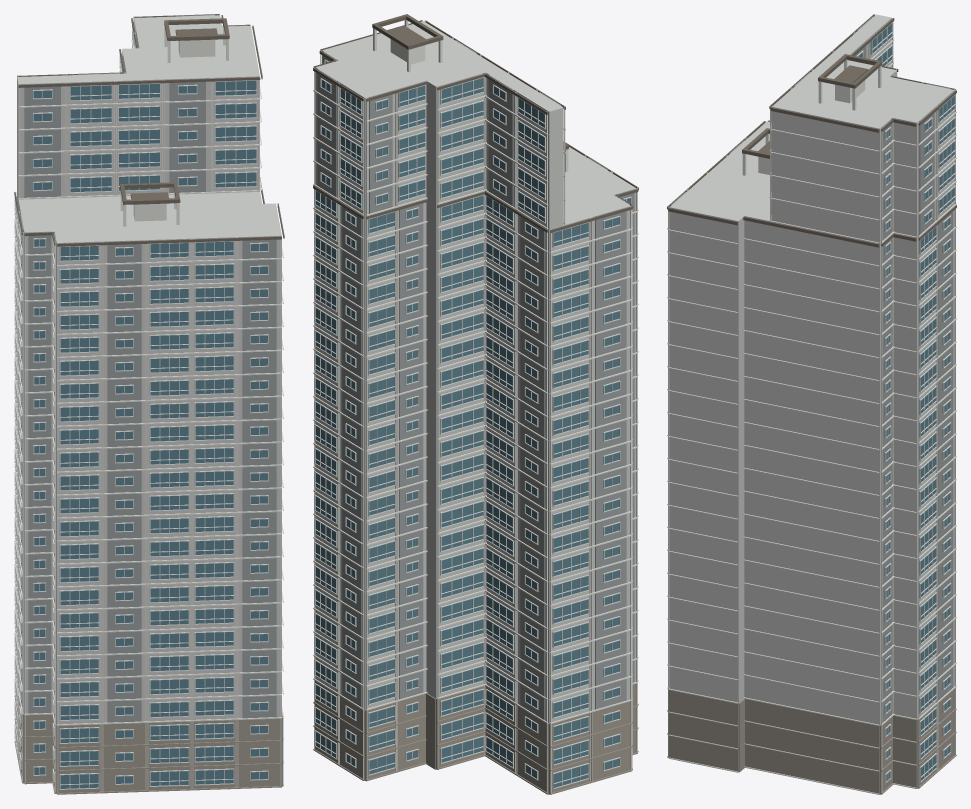
The model's file is bespoke-banpo-xi-123.glb.
The picture shows the model from 3 angles, left to right: view 1: azimuth 30°, elevation 25°; view 2: azimuth 150°, elevation 25°; view 3: azimuth 270°, elevation 25°; orthographic projection. The views are drawn at different scales.
Parts seen in each view (by area): view 1: editable_BX123_pale_silver_limestone, editable_BX123_blue_grey_broad_glazing, editable_BX123_grey_service_core, editable_BX123_white_window_frames, editable_BX123_ivory_course_bands, editable_BX123_warm_ground_stone, editable_BX123_dark_coping; view 2: editable_BX123_blue_grey_broad_glazing, editable_BX123_pale_silver_limestone, editable_BX123_white_window_frames, editable_BX123_grey_service_core, editable_BX123_ivory_course_bands, editable_BX123_warm_ground_stone, editable_BX123_dark_coping; view 3: editable_BX123_pale_silver_limestone, editable_BX123_ivory_course_bands, editable_BX123_warm_ground_stone, editable_BX123_grey_service_core, editable_BX123_white_window_frames, editable_BX123_blue_grey_broad_glazing, editable_BX123_dark_coping.
Boxes of the visible parts, left/top/right/bottom form: editable_BX123_pale_silver_limestone: left=17, top=15, right=281, bottom=793; editable_BX123_blue_grey_broad_glazing: left=16, top=37, right=267, bottom=788; editable_BX123_grey_service_core: left=20, top=14, right=276, bottom=723; editable_BX123_white_window_frames: left=14, top=28, right=268, bottom=789; editable_BX123_ivory_course_bands: left=14, top=14, right=283, bottom=793; editable_BX123_warm_ground_stone: left=14, top=696, right=283, bottom=794; editable_BX123_dark_coping: left=14, top=14, right=284, bottom=246; editable_BX123_blue_grey_broad_glazing: left=315, top=61, right=630, bottom=787; editable_BX123_pale_silver_limestone: left=315, top=21, right=636, bottom=793; editable_BX123_white_window_frames: left=314, top=59, right=631, bottom=789; editable_BX123_grey_service_core: left=317, top=40, right=634, bottom=720; editable_BX123_ivory_course_bands: left=313, top=20, right=638, bottom=794; editable_BX123_warm_ground_stone: left=313, top=681, right=638, bottom=794; editable_BX123_dark_coping: left=313, top=14, right=638, bottom=232; editable_BX123_pale_silver_limestone: left=669, top=14, right=954, bottom=788; editable_BX123_ivory_course_bands: left=667, top=14, right=956, bottom=794; editable_BX123_warm_ground_stone: left=667, top=688, right=956, bottom=794; editable_BX123_grey_service_core: left=670, top=16, right=953, bottom=722; editable_BX123_white_window_frames: left=771, top=22, right=955, bottom=783; editable_BX123_blue_grey_broad_glazing: left=857, top=23, right=954, bottom=781; editable_BX123_dark_coping: left=667, top=14, right=956, bottom=247.
Size of the model in its own units: 33 by 81.3 by 30.9.
